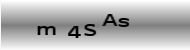4: (66, 25, 82, 40)
A: (102, 13, 118, 27)
S: (83, 23, 97, 38)
m: (36, 25, 57, 36)
s: (117, 17, 131, 28)
